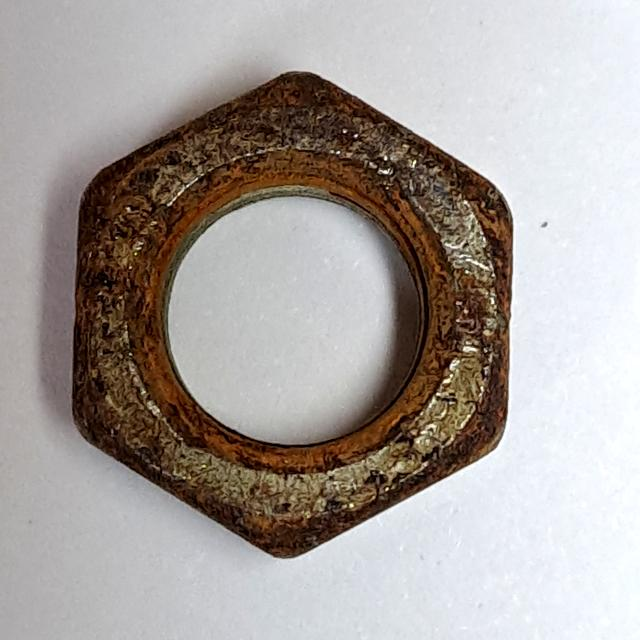Rust: (53, 55, 528, 570)
